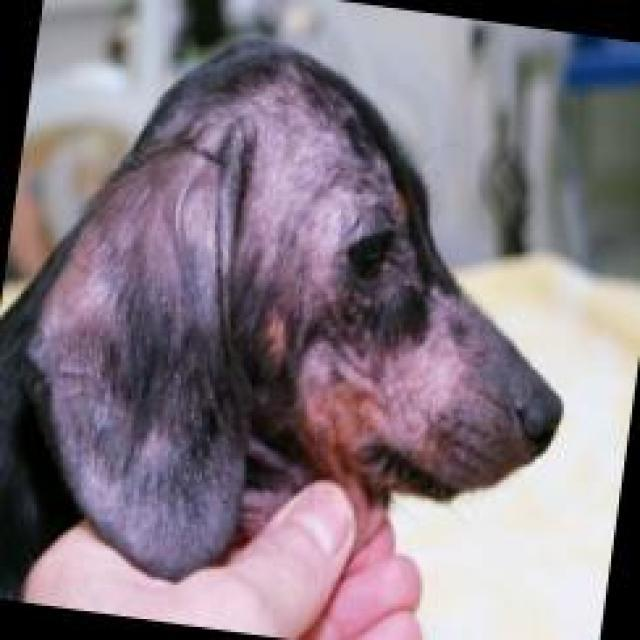allergic dermatitis: (46, 152, 253, 548), (200, 92, 342, 284), (375, 289, 463, 442), (281, 334, 389, 415)
